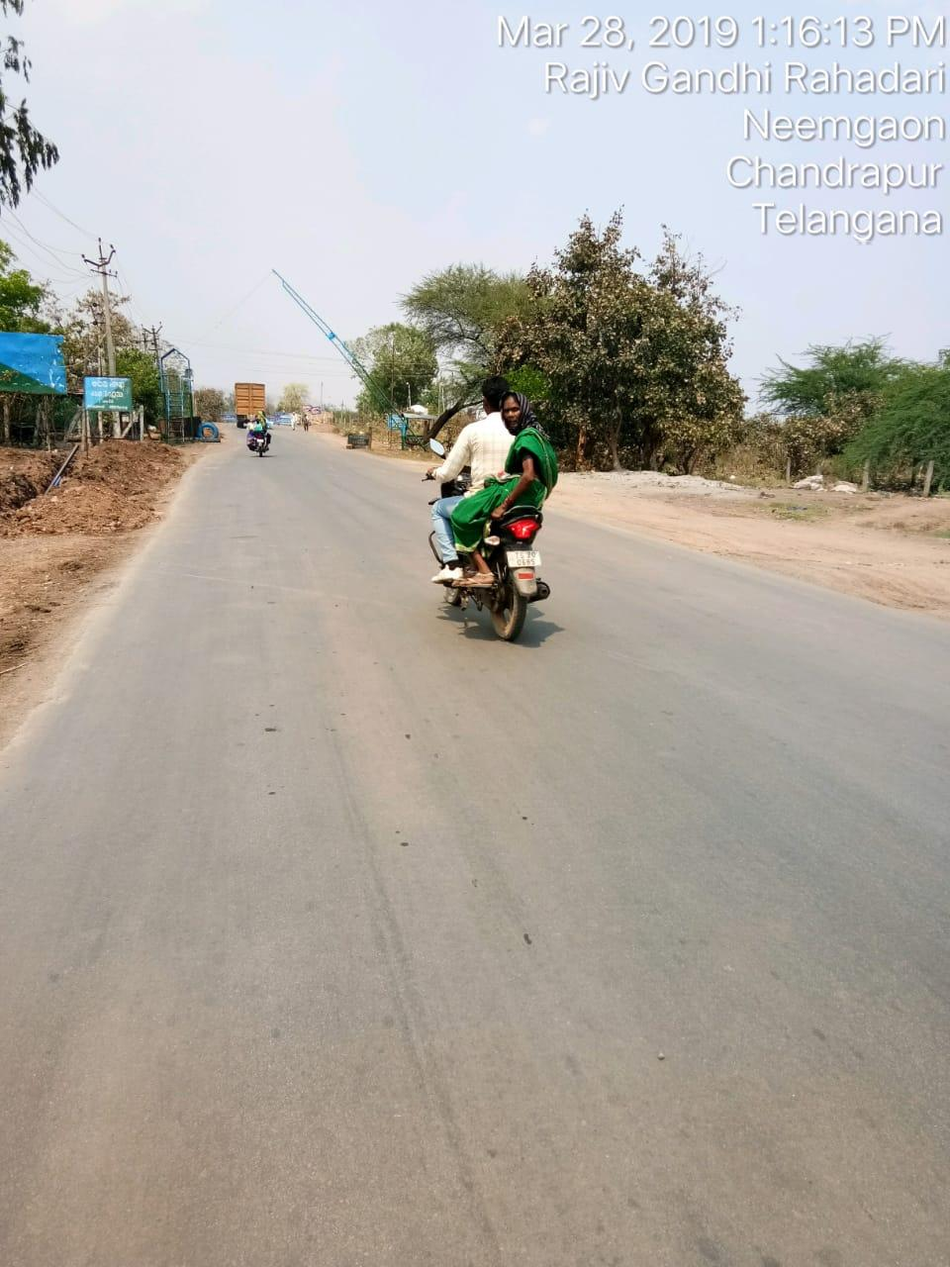plate: (504, 545, 544, 574)
